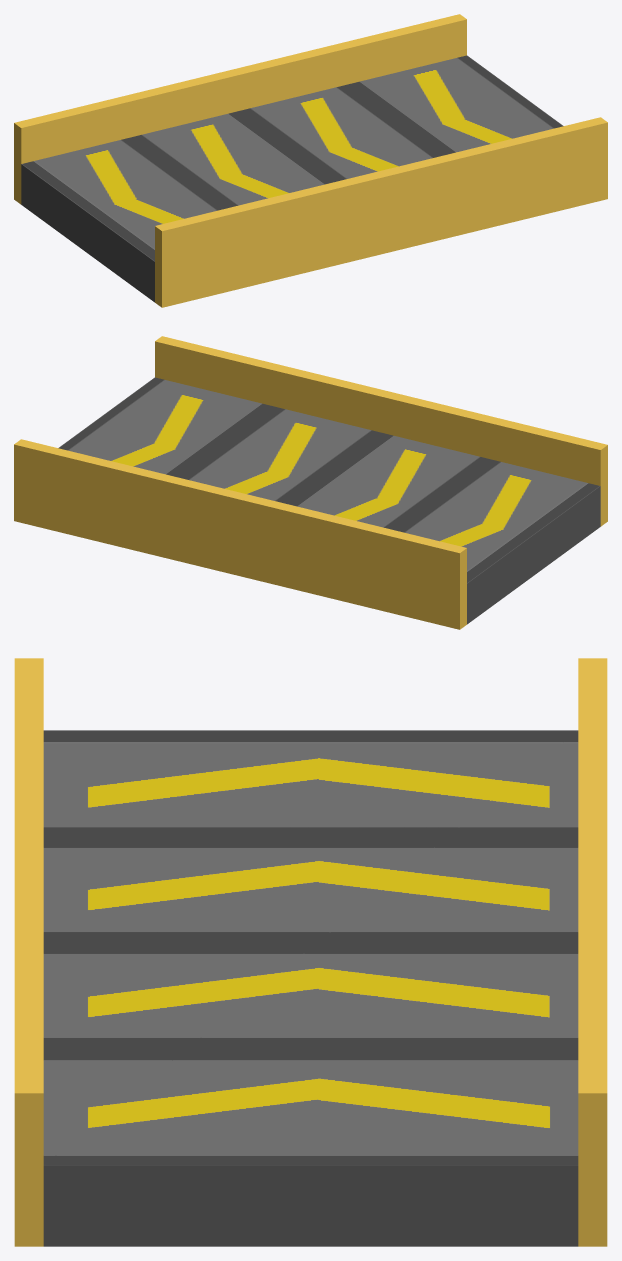
Rendered from conveyor belt2.fbx.
3 views of the same model, one above another, from view 1: azimuth 30°, elevation 25°; view 2: azimuth 150°, elevation 25°; view 3: azimuth 270°, elevation 25° (orthographic). The views are drawn at different scales.
Parts seen in each view (by area): view 1: conveyor belt; view 2: conveyor belt; view 3: conveyor belt.
Part boxes in pixels (left/top/right/bottom): conveyor belt: left=14, top=14, right=607, bottom=307; conveyor belt: left=14, top=336, right=607, bottom=629; conveyor belt: left=14, top=658, right=607, bottom=1246.
Size of the model in its own units: 172 by 28.26 by 99.
